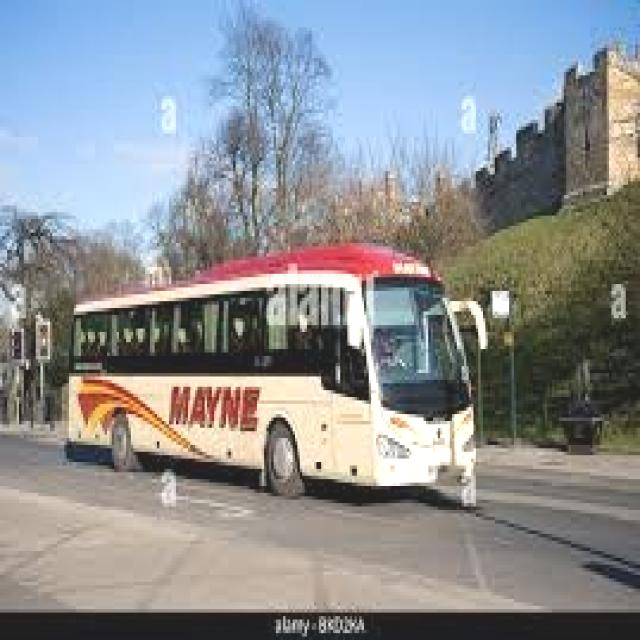bus: (59, 244, 497, 559)
